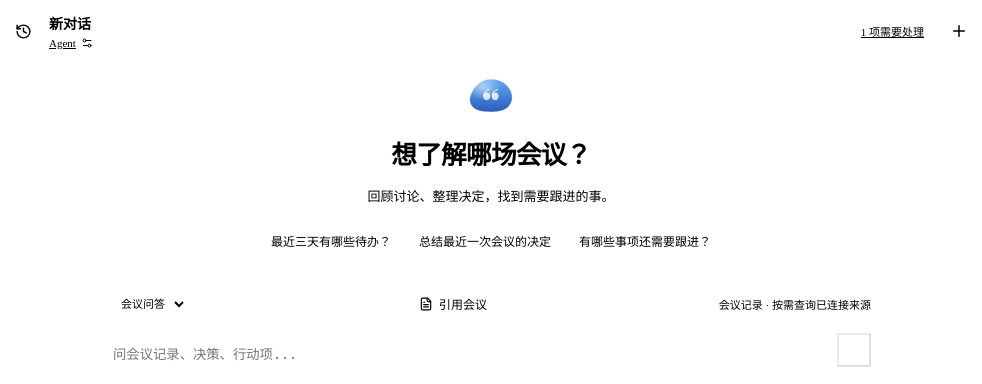
Test case: AgentConsole › adds a recent meeting reference to the editable question without sending it
Step 1. Click the button "引用会议" → (453, 304), box 419,290 -> 487,317
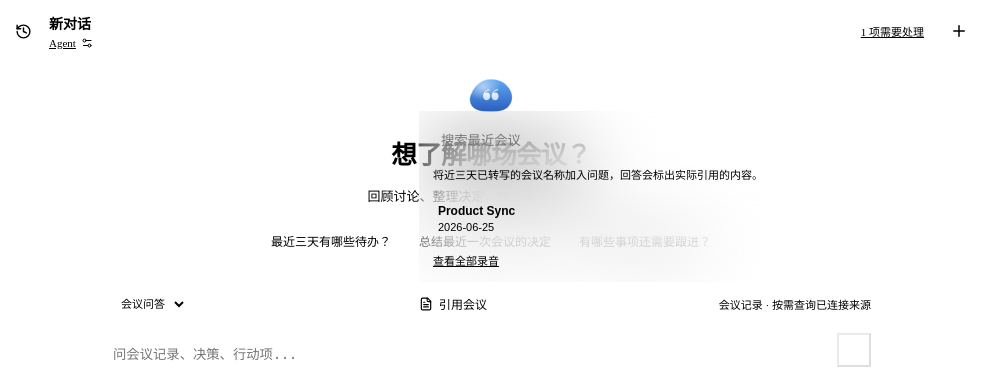
Step 2. Click the text "Product Sync" → (477, 211), box 438,204 -> 515,218
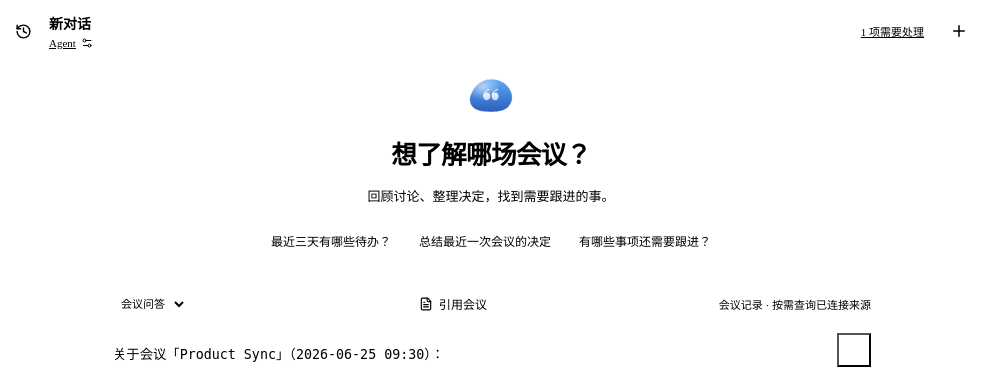
expect the text box with placeholder "问会议记录、决策、行动项..." holds "关于会议「Product Sync」（2026-06-25 09:30）：": met, box 111,343 -> 829,367
